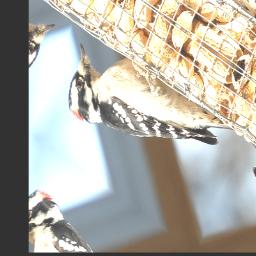Woodpecker: (57, 19, 234, 208)
